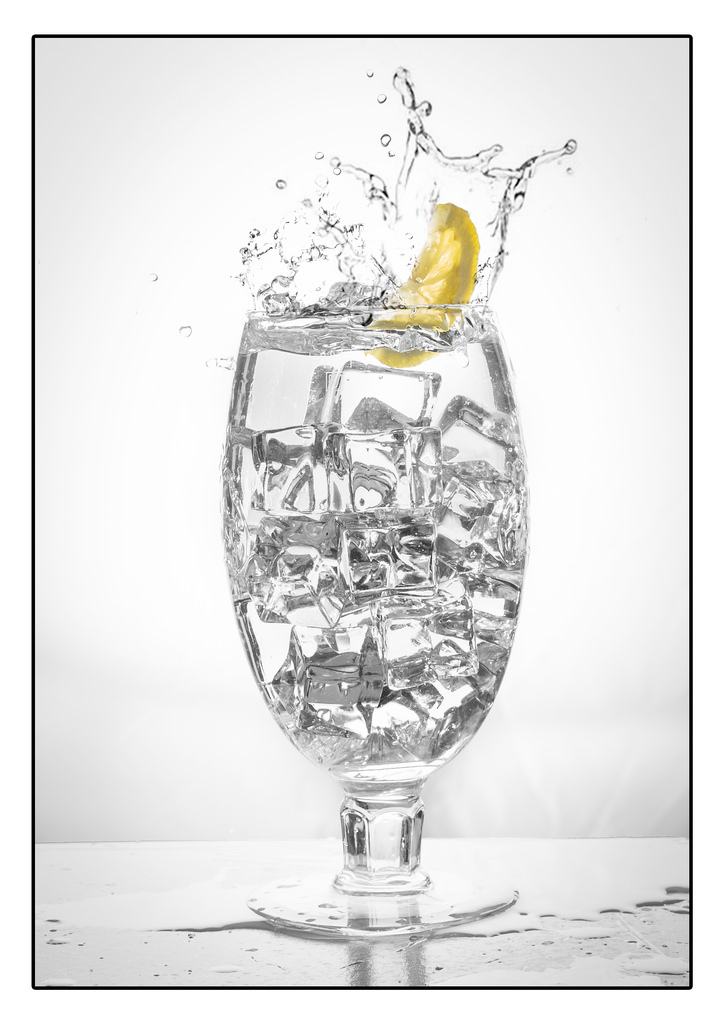glass of water: (227, 303, 514, 941)
